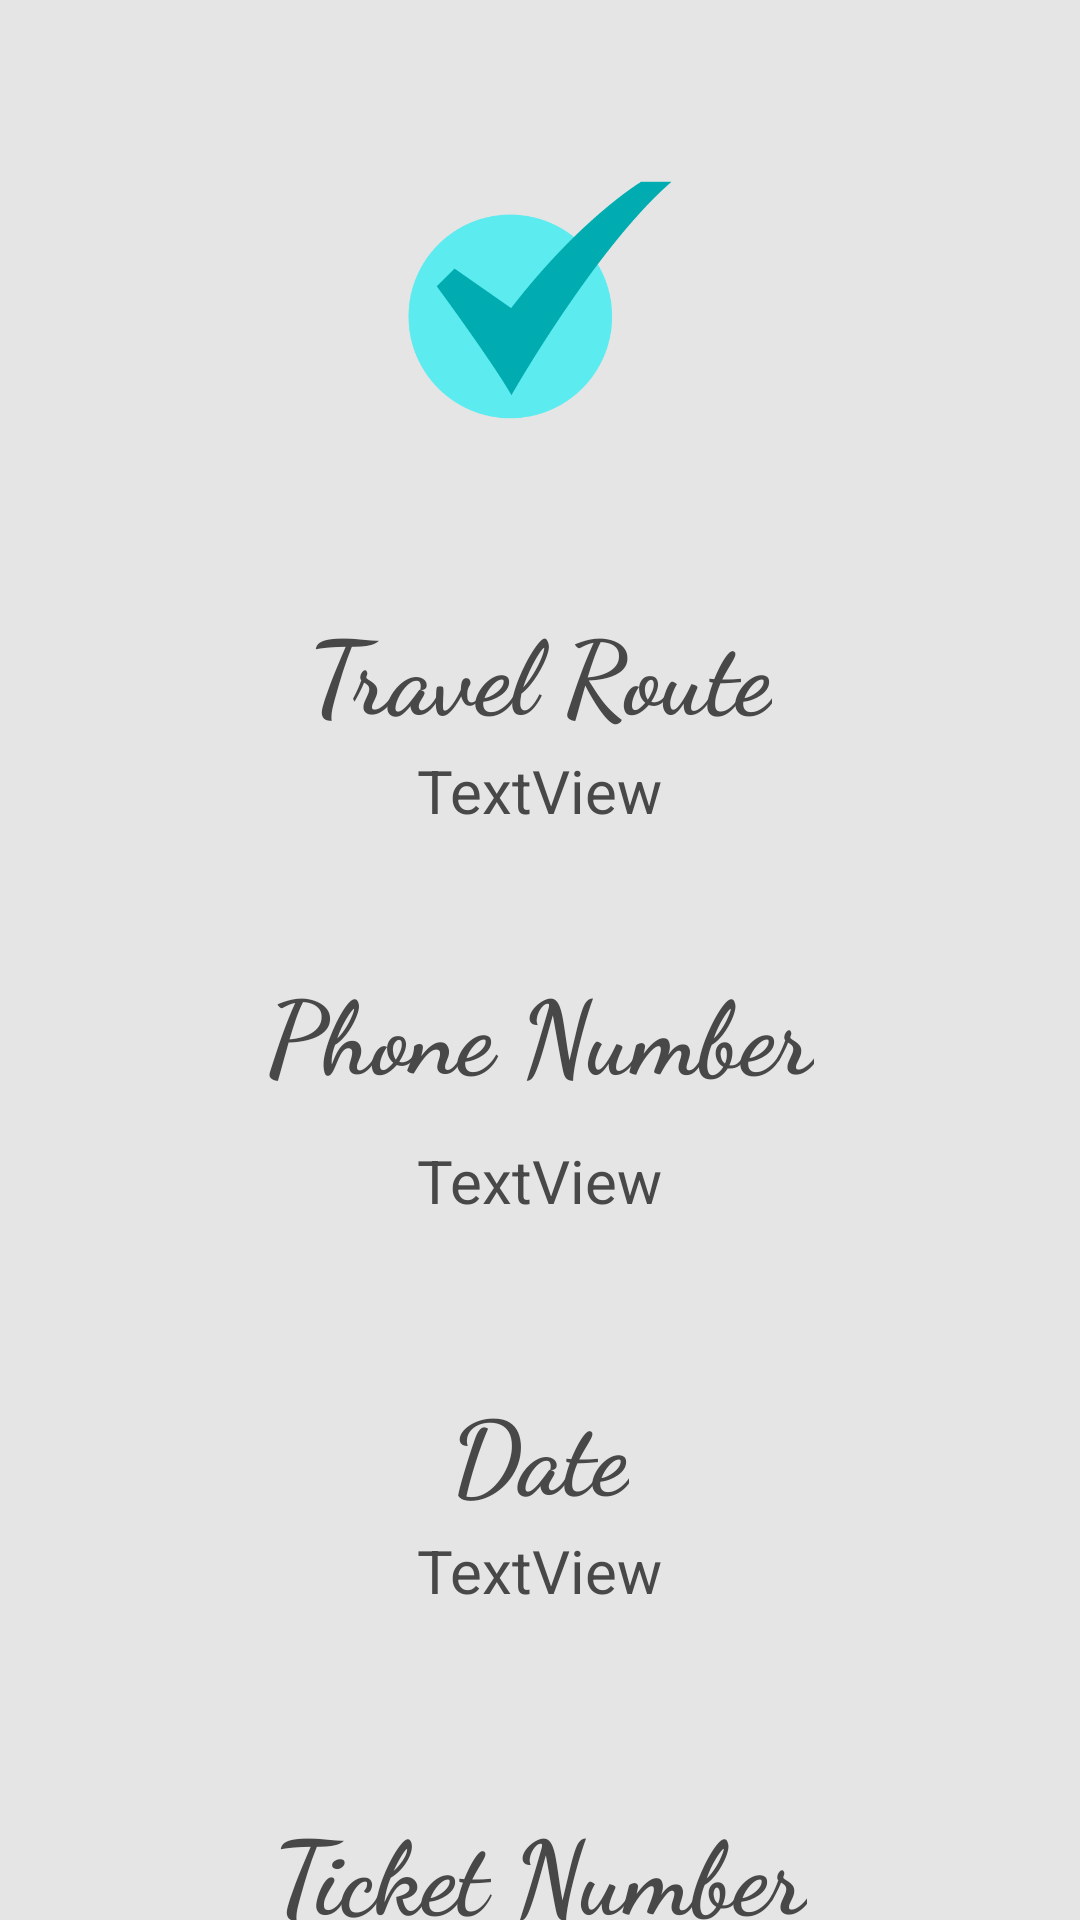

Locate icon controls on the screen. Image size 1080*1920, boxes as (x1, y1, x2, y2).
checkmark: (408, 181, 671, 419)
